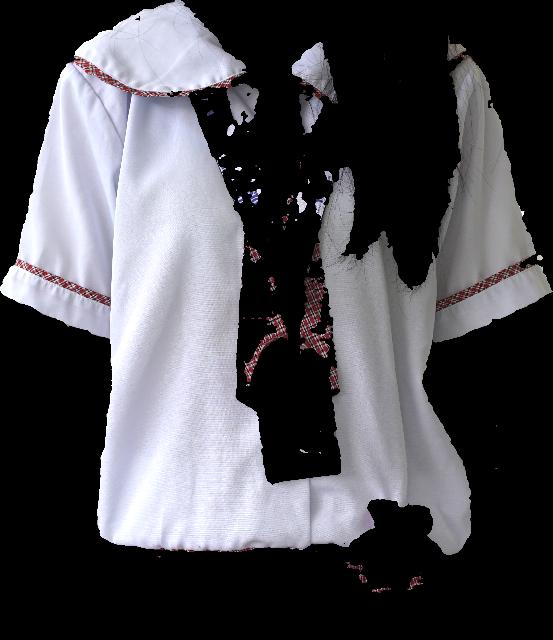pologirl: (0, 0, 552, 555)
